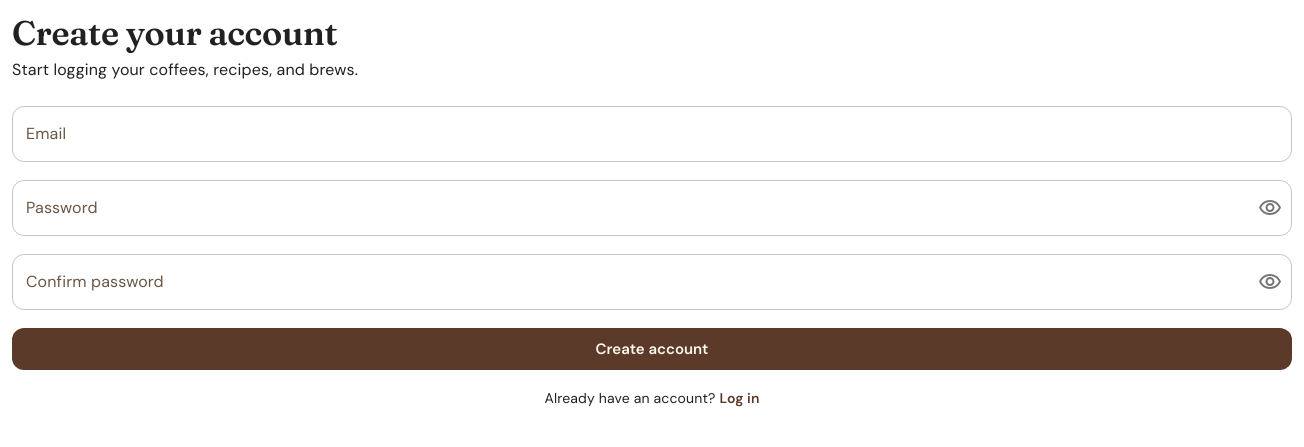
it: RegisterForm › shows the server common-password error on the password field
Type "brewer@example.com" into the field labelled "Email" at [652, 134], box [12,106,1292,162]
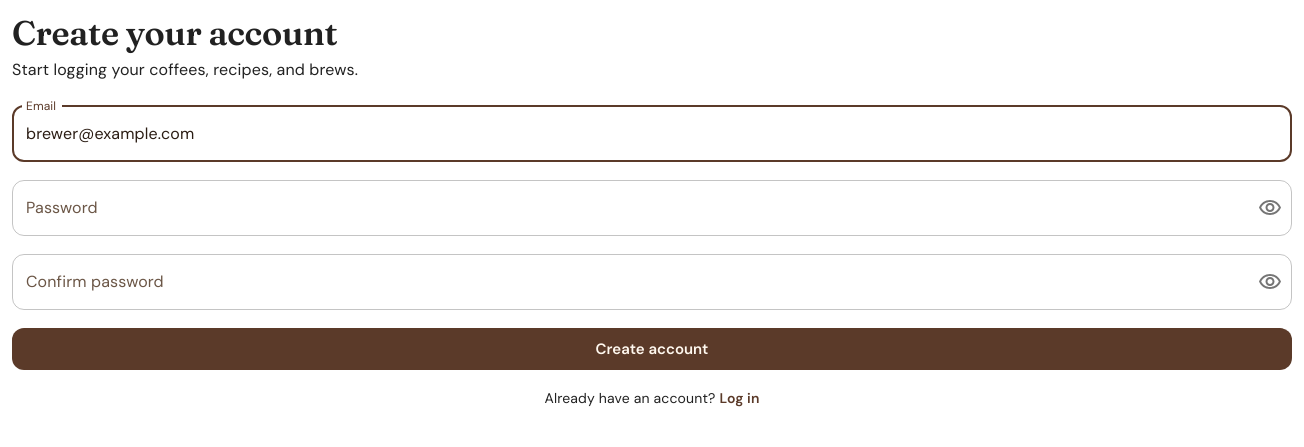
Type "passwordpassword" into the password field labelled "Password" at [627, 208], box [12,180,1242,236]
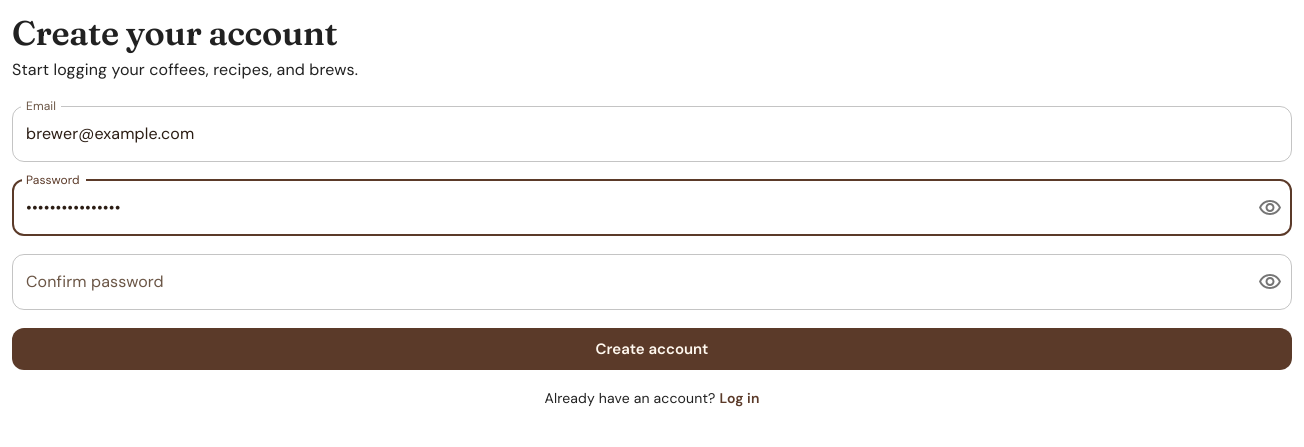
Type "passwordpassword" into the password field labelled "Confirm password" at [627, 282], box [12,254,1242,310]
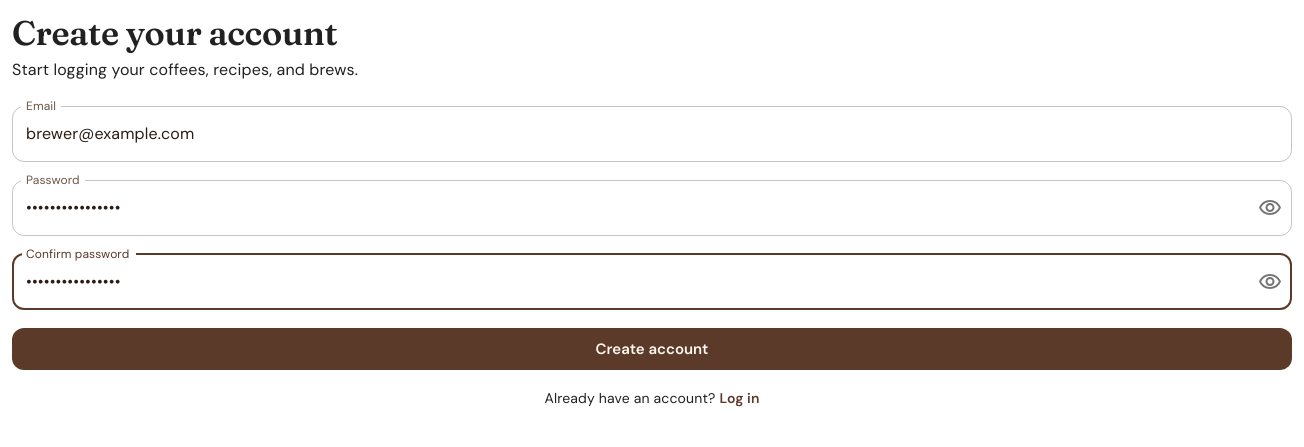
Click the button "Create account" at [652, 349], box [12,328,1292,370]
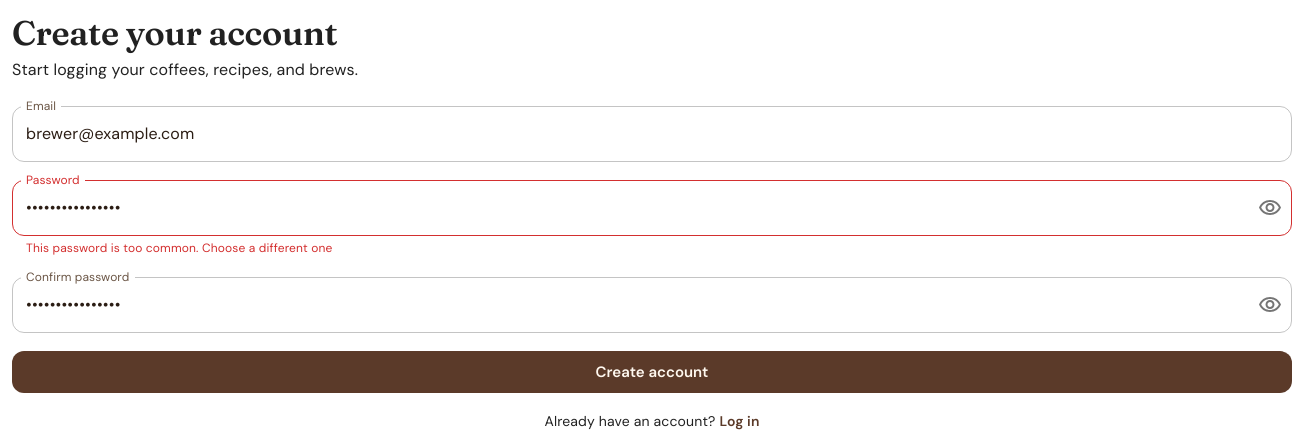
Check: the text "This password is too common. Choose a different one" is shown, box [26,240,332,256]
